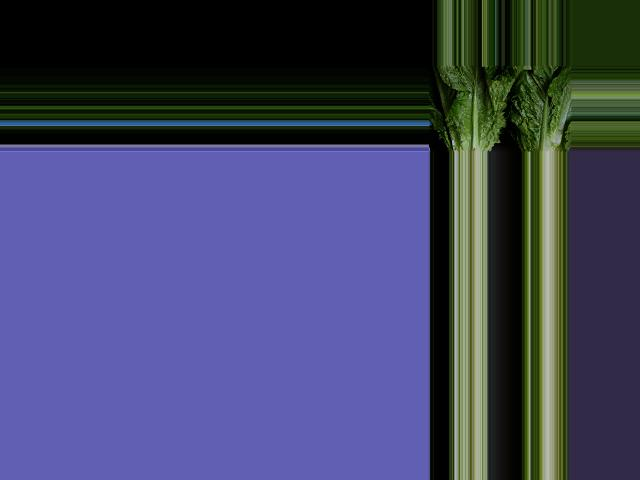lettuce: (511, 70, 567, 152)
